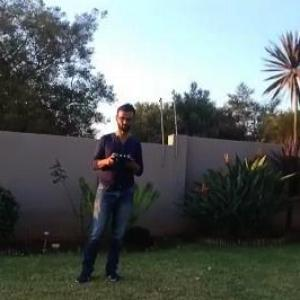follow: (70, 97, 148, 285)
